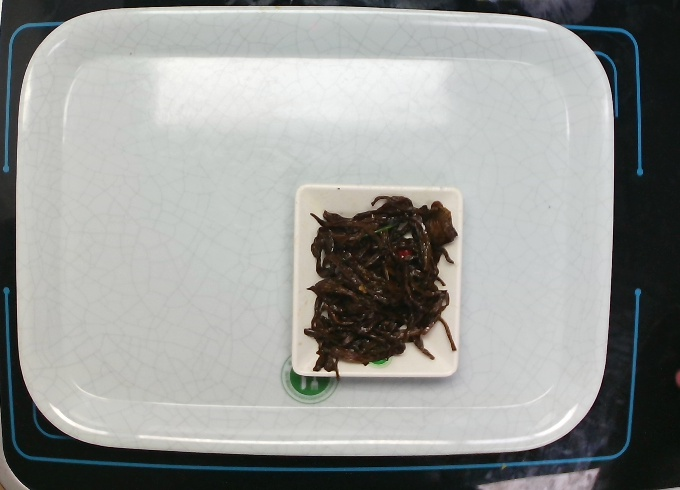WCQzf-Bai_Se_Si_Fang_Die: (278, 175, 467, 385)
